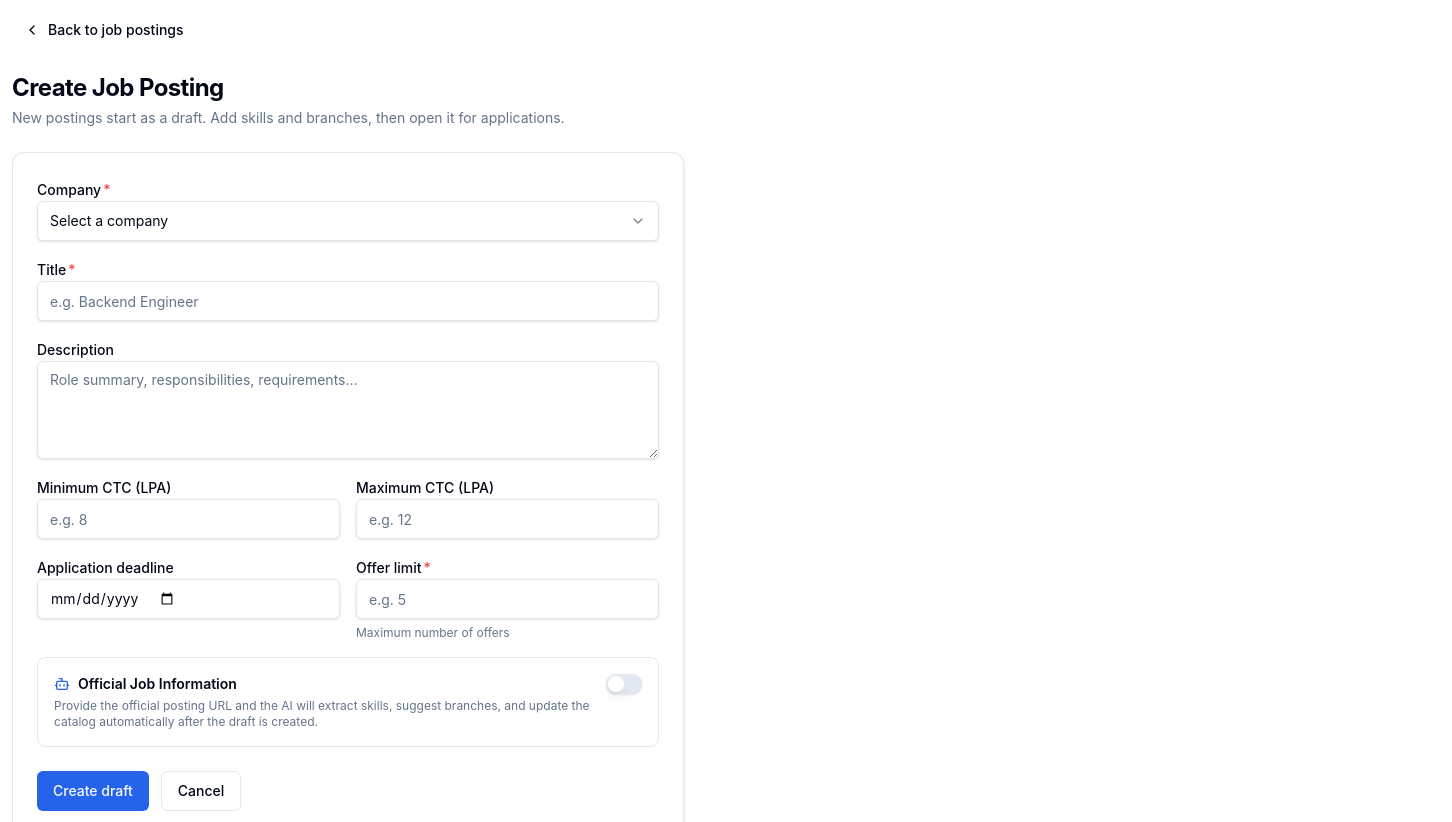
Test: CreateJobPostingPage › submits a valid posting and navigates to its detail page
Click the dropdown labelled "Select a company": (109, 220) [37,201,659,241]
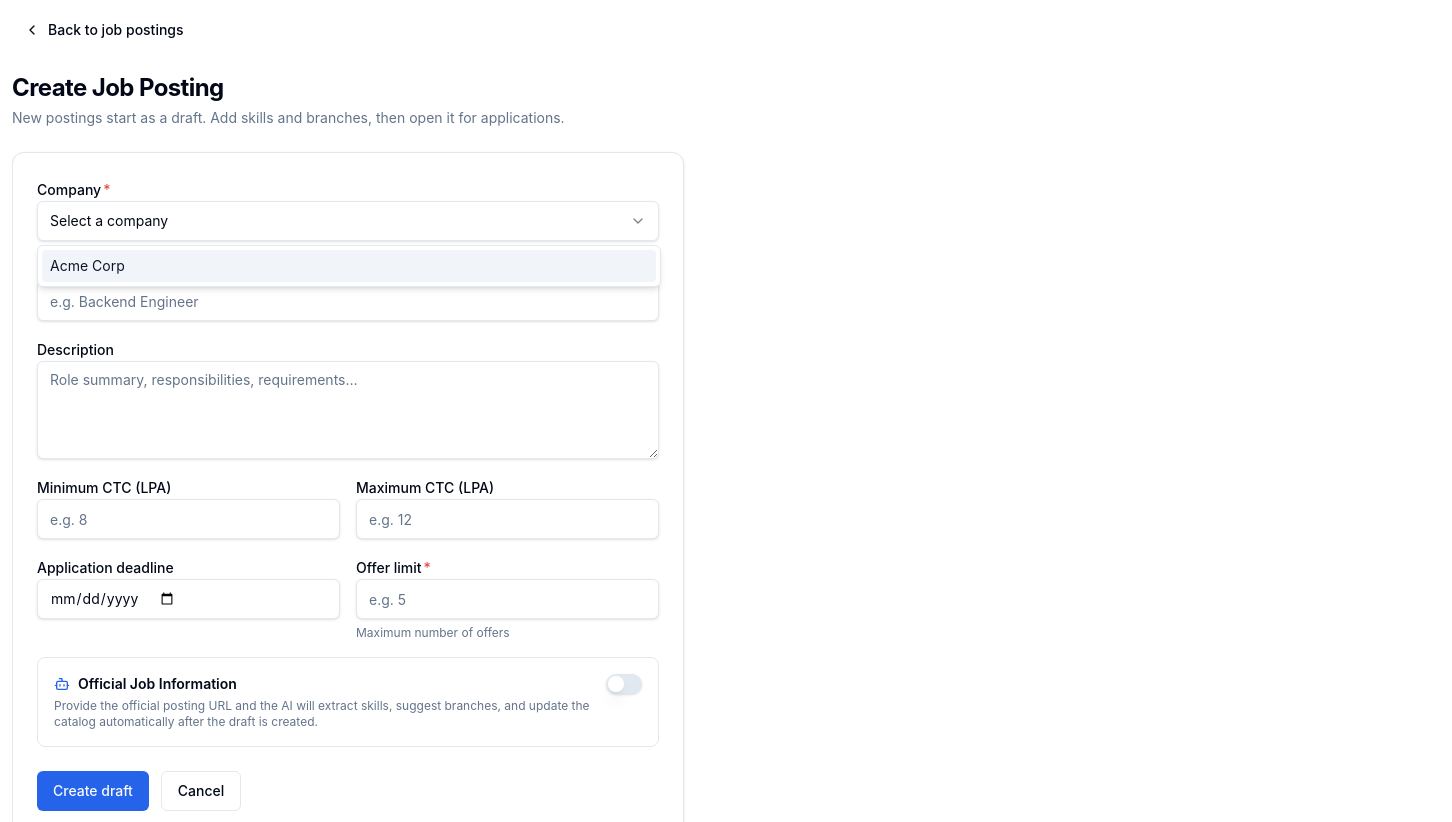
Click the option "Acme Corp": (87, 266) [42,250,656,282]
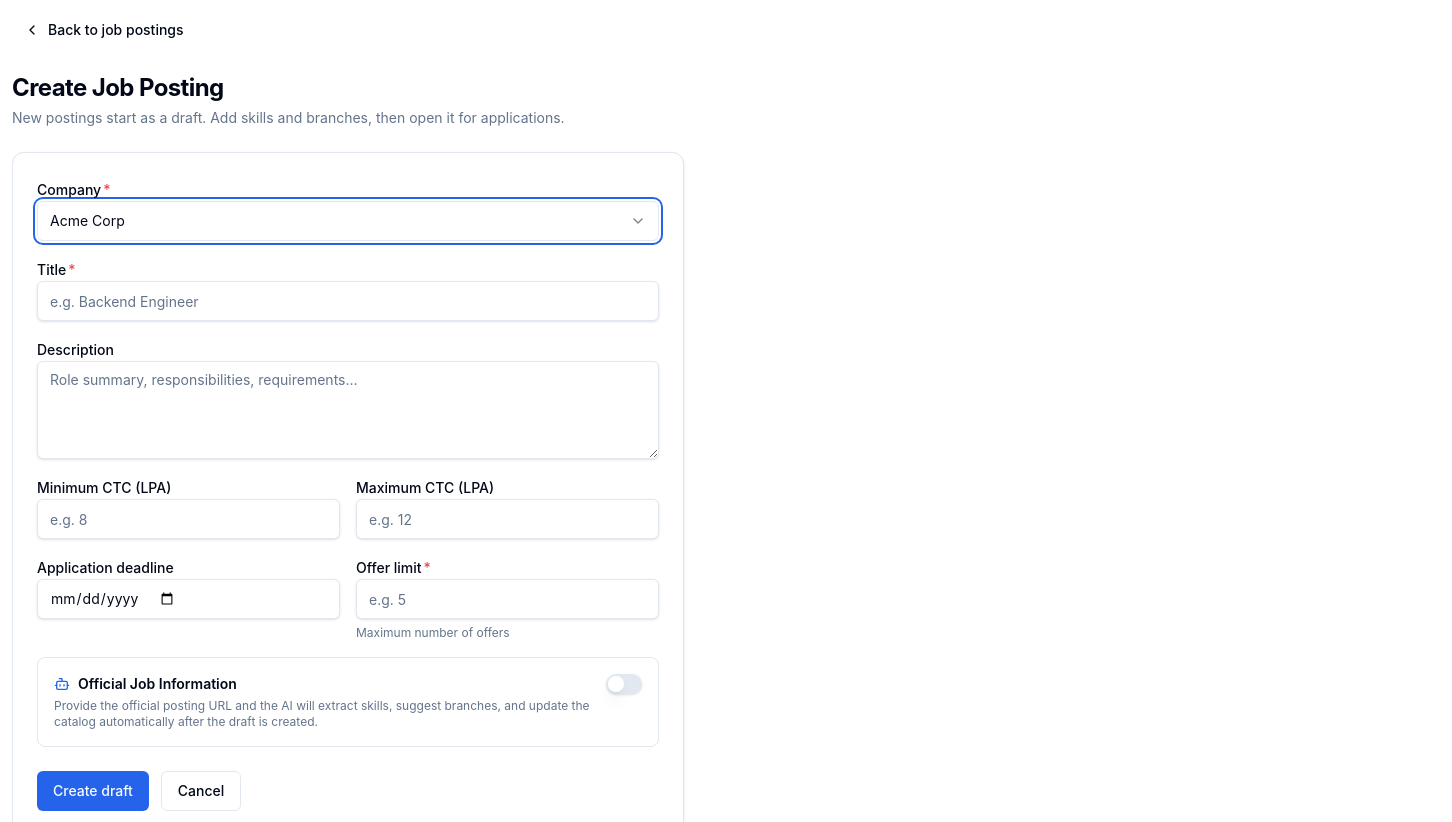
In the field labelled "Title*": (348, 301) [37,281,659,321], type "Backend Engineer"
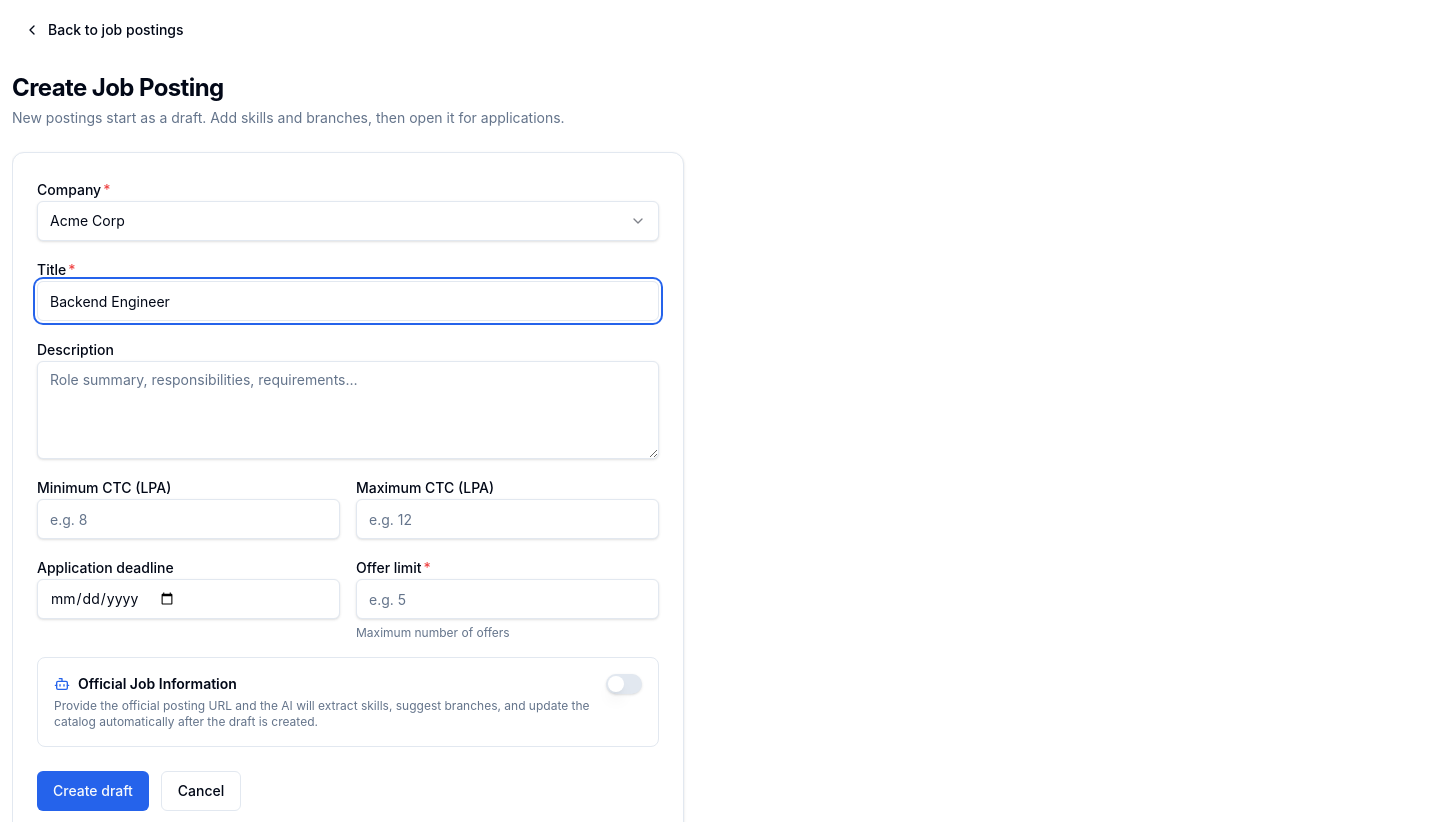
In the number field labelled "Offer limit*": (508, 599) [356,579,659,619], type "5"
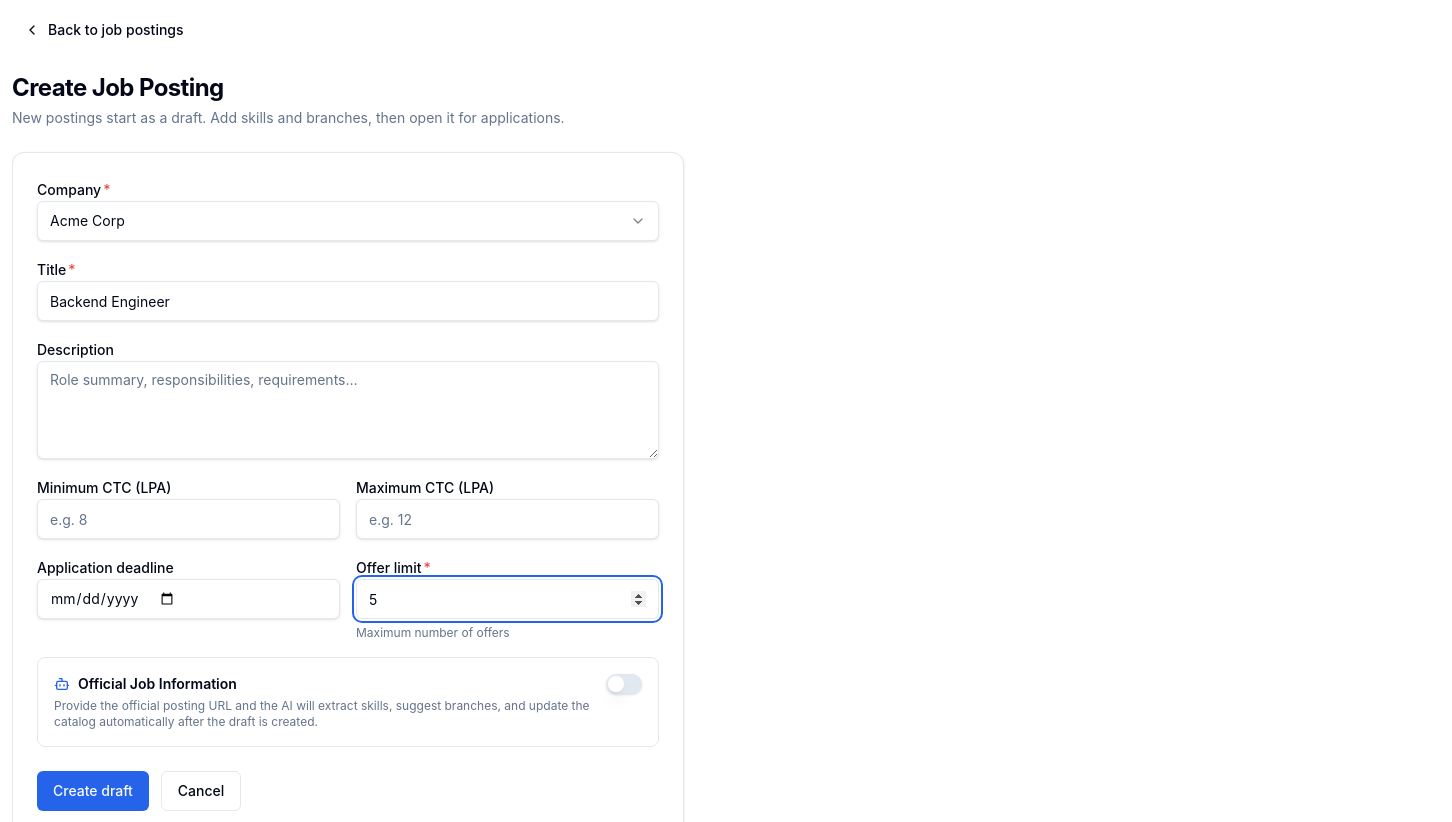
Click the button "Create draft": (93, 791) [37,771,149,811]
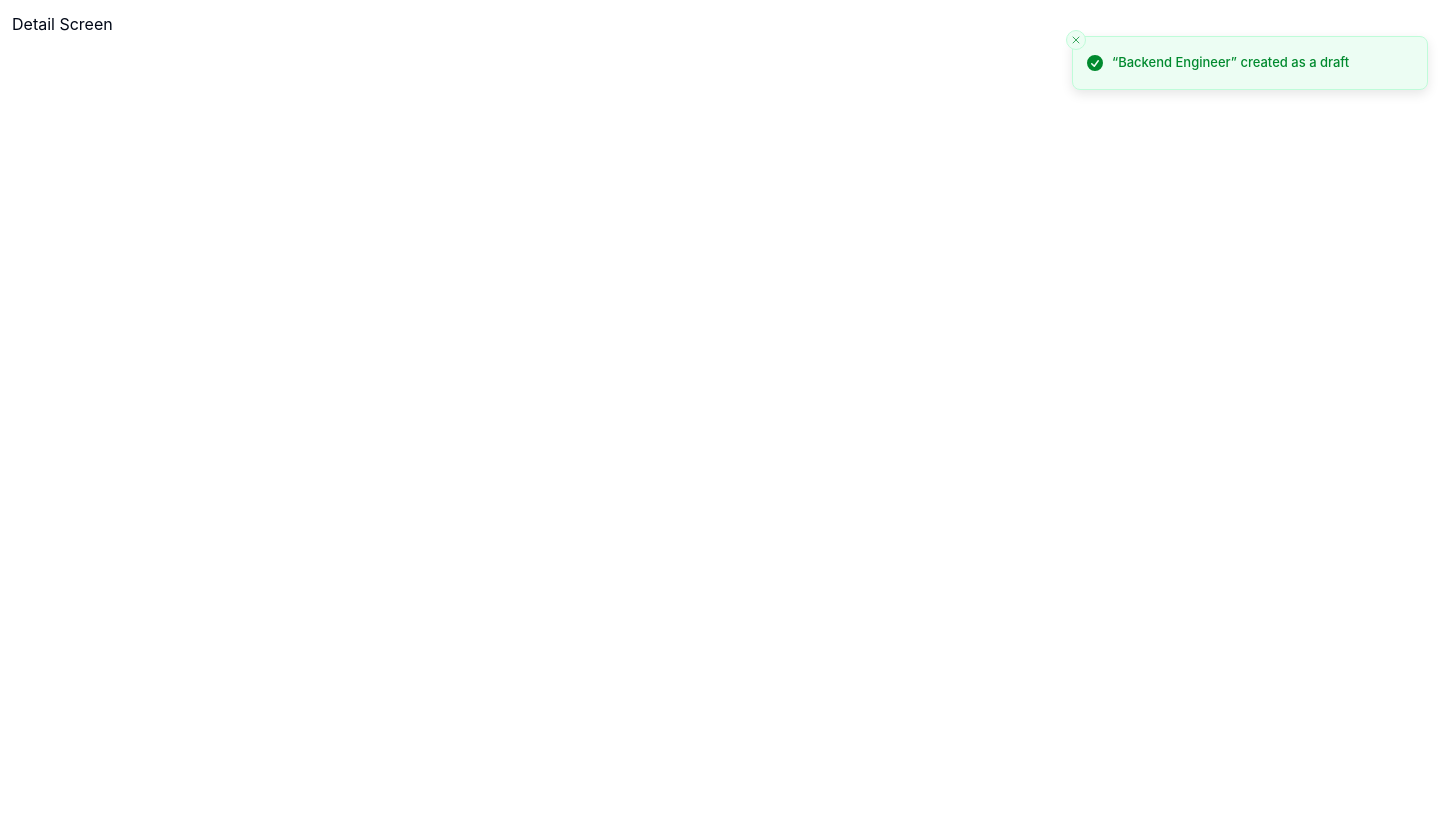
Now the text "Detail Screen" is shown, box [12,14,113,34]
